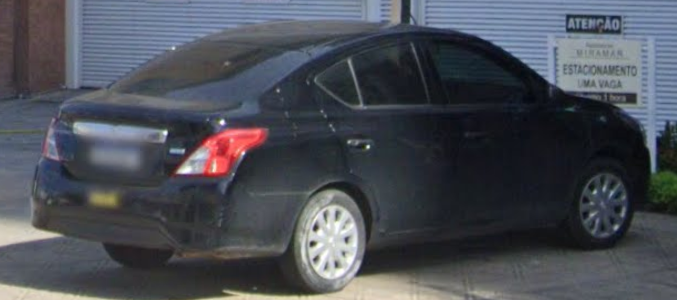car: (29, 17, 651, 292)
